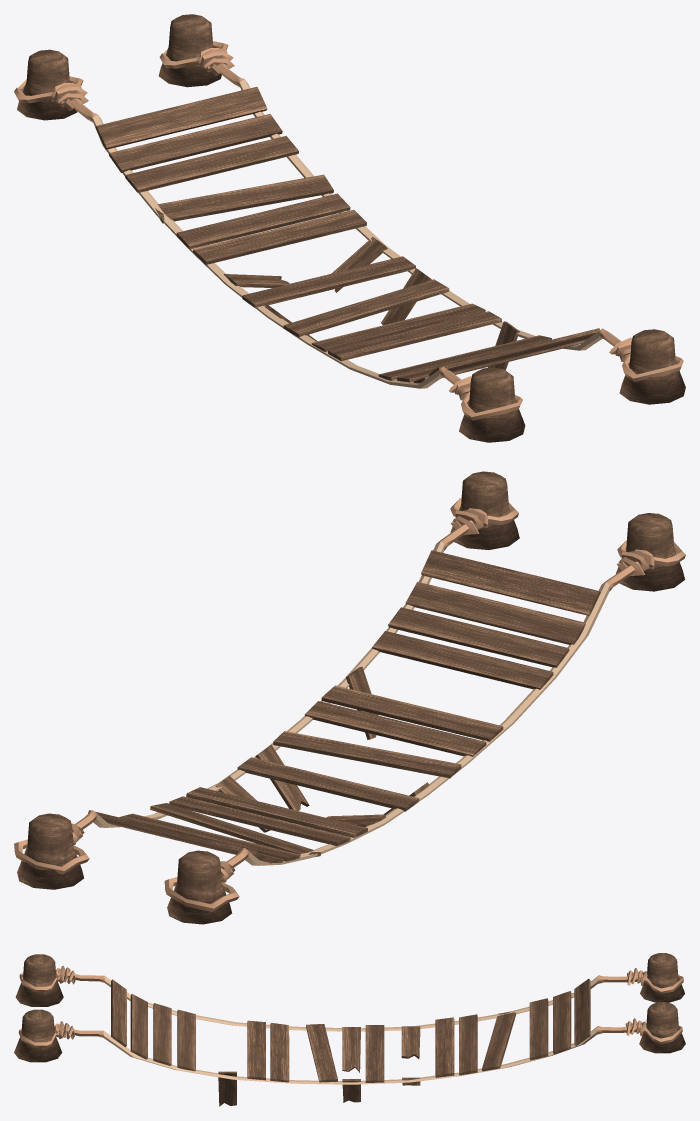
The model's file is RopeBridgeBroken.fbx.
3 renders of one model, top to bottom at view 1: azimuth 30°, elevation 25°; view 2: azimuth 150°, elevation 25°; view 3: azimuth 270°, elevation 25°, orthographic. The views are drawn at different scales.
Parts seen in each view (by area): view 1: sweep4.007, Cube.050, sweep4.006, Cube.049, Cube.048, Cube.045, Cube.046, Cylinder.008, Cylinder.010, Cube.047, Cylinder.009, Cube.037 (+9 smaller); view 2: sweep4.007, Cube.056, Cube.055, Cube.054, sweep4.006, Cube.053, Cube.052, Cylinder.009, Cube.051, Cylinder.011, Cylinder.008, Cylinder.010 (+8 smaller); view 3: sweep4.006, sweep4.007, Cylinder.008, Cylinder.010, Cylinder.009, Cylinder.011, Cube.047, Cube.048, Cube.044, Cube.037, Cube.052, Cube.046 (+12 smaller).
Boxes of the visible parts, x1=… form: sweep4.007: x1=14, y1=76, x2=522, y2=420; Cube.050: x1=95, y1=87, x2=267, y2=149; sweep4.006: x1=159, y1=41, x2=683, y2=382; Cube.049: x1=109, y1=113, x2=282, y2=172; Cube.048: x1=125, y1=135, x2=298, y2=192; Cube.045: x1=155, y1=174, x2=333, y2=223; Cube.046: x1=176, y1=193, x2=350, y2=249; Cylinder.008: x1=619, y1=329, x2=685, y2=404; Cylinder.010: x1=459, y1=367, x2=525, y2=442; Cube.047: x1=193, y1=210, x2=366, y2=264; Cylinder.009: x1=158, y1=14, x2=221, y2=87; Cube.037: x1=242, y1=256, x2=415, y2=308; sweep4.007: x1=164, y1=540, x2=685, y2=911; Cube.056: x1=421, y1=550, x2=600, y2=615; Cube.055: x1=405, y1=581, x2=585, y2=644; Cube.054: x1=388, y1=607, x2=569, y2=667; sweep4.006: x1=14, y1=497, x2=518, y2=874; Cube.053: x1=372, y1=631, x2=553, y2=689; Cube.052: x1=304, y1=701, x2=486, y2=756; Cylinder.009: x1=17, y1=813, x2=83, y2=889; Cube.051: x1=321, y1=685, x2=503, y2=741; Cylinder.011: x1=167, y1=850, x2=232, y2=924; Cylinder.008: x1=450, y1=471, x2=519, y2=549; Cylinder.010: x1=616, y1=513, x2=684, y2=591; sweep4.006: x1=18, y1=1018, x2=682, y2=1084; sweep4.007: x1=19, y1=965, x2=683, y2=1031; Cylinder.008: x1=14, y1=1009, x2=62, y2=1062; Cylinder.010: x1=15, y1=954, x2=63, y2=1006; Cylinder.009: x1=639, y1=1002, x2=685, y2=1053; Cylinder.011: x1=640, y1=953, x2=684, y2=1002; Cube.047: x1=435, y1=1017, x2=454, y2=1077; Cube.048: x1=529, y1=998, x2=548, y2=1060; Cube.044: x1=306, y1=1024, x2=337, y2=1082; Cube.037: x1=365, y1=1025, x2=384, y2=1082; Cube.052: x1=270, y1=1023, x2=289, y2=1082; Cube.046: x1=459, y1=1014, x2=477, y2=1075.
Bounding box in the file's own units: 126 × 76.97 × 451.
Materials: 5 (5 with a texture image).
